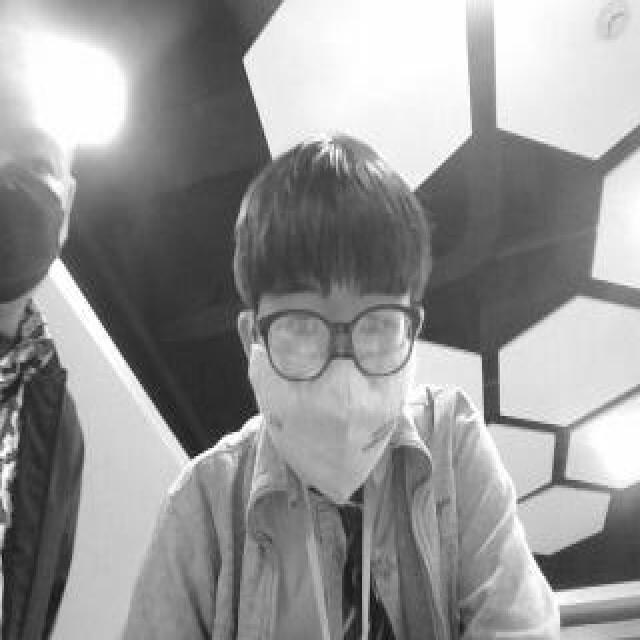Focused: (234, 129, 430, 495)
